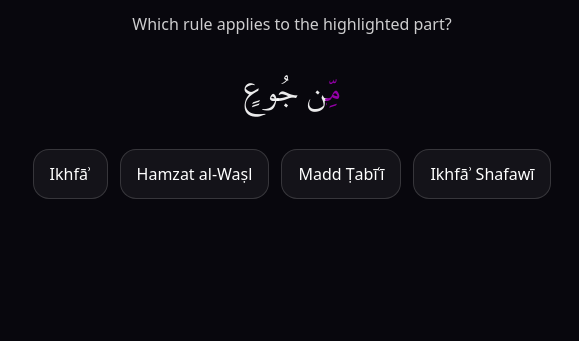
Test: RuleIdentifier › locks and reports correct on the right answer
This screenshot has width=579, height=341.
Click the button "Ikhfāʾ" at (70, 174), box [32,149,108,199]
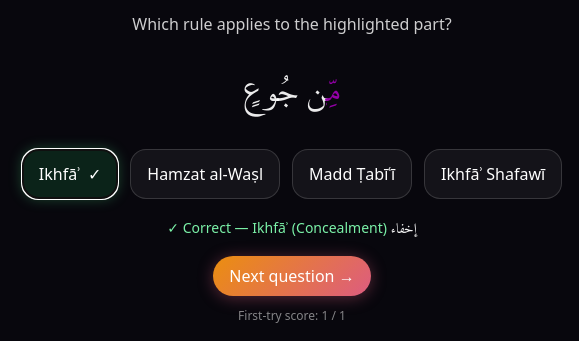
Check: the text "First-try score: 1 / 1" is shown, box [238,307,346,324]
